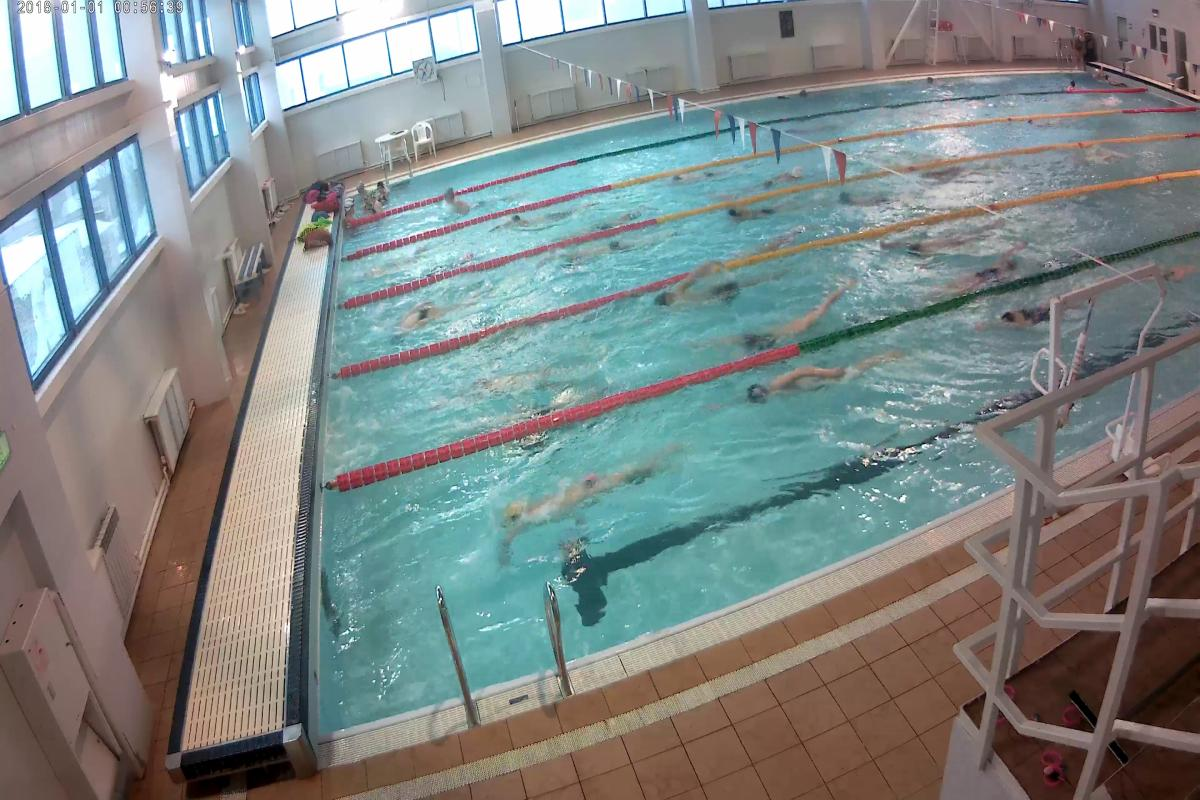swimmer: (496, 465, 666, 558), (739, 351, 914, 402), (722, 290, 845, 362), (630, 258, 781, 312), (920, 256, 1032, 300), (386, 289, 470, 340), (892, 226, 996, 264), (492, 207, 584, 236), (978, 306, 1054, 330), (713, 200, 792, 223), (443, 184, 469, 220), (764, 167, 808, 188)
